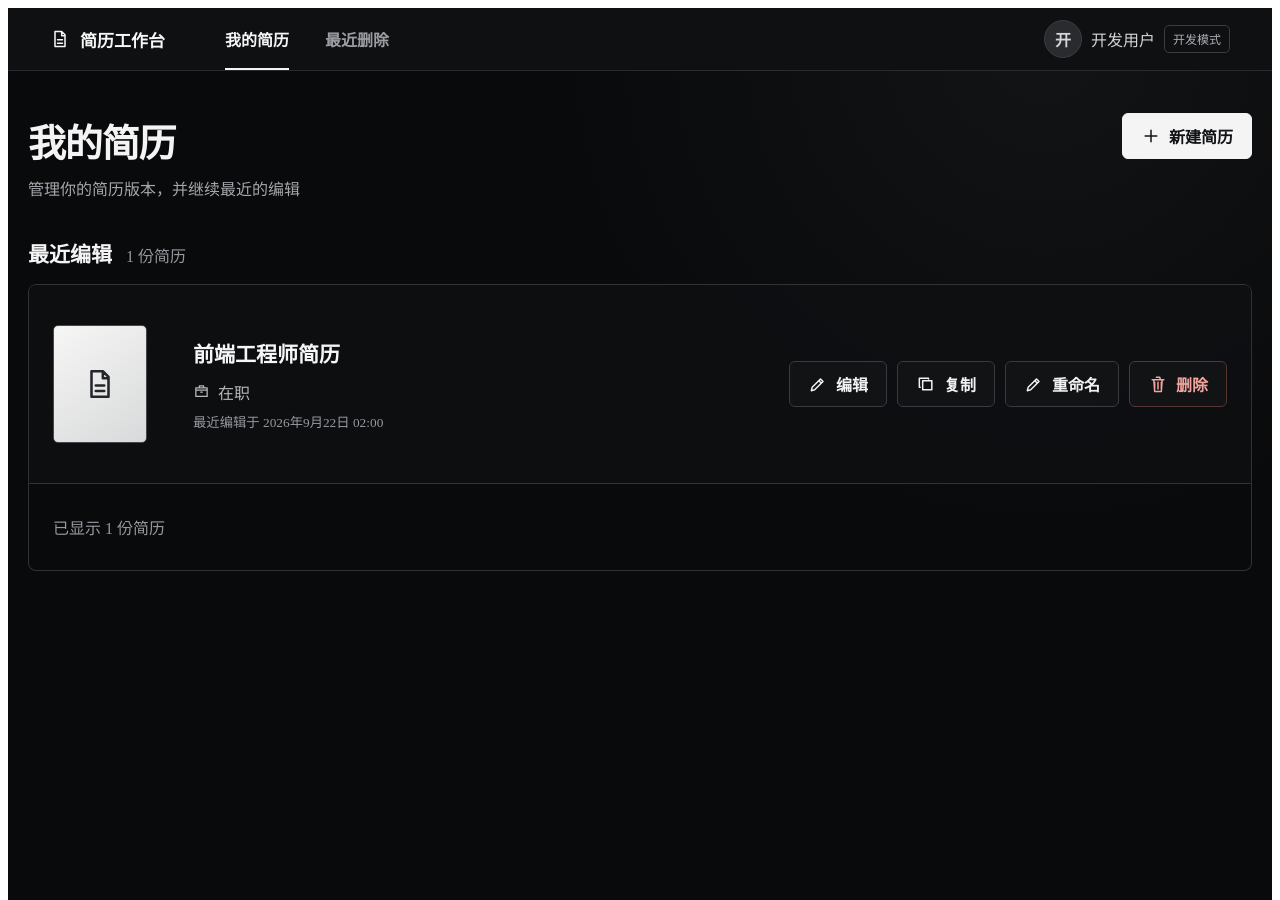
Scenario: resume dashboard › copies, renames and deletes through the existing versioned endpoints
Check: the link "前端工程师简历" is shown, box [193, 342, 340, 366]
Click the button "复制".
click(946, 384)  # box [897, 361, 995, 407]
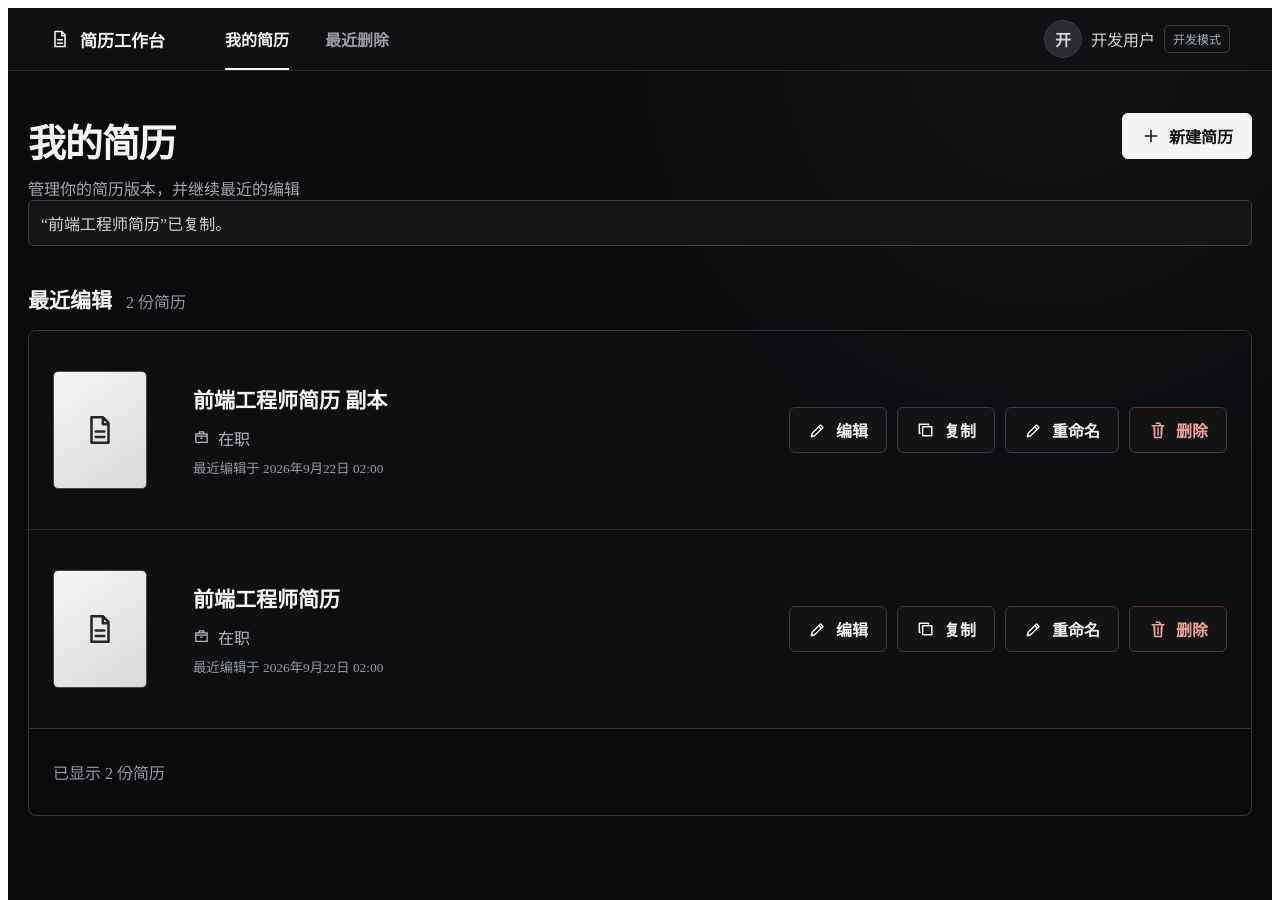
Check: the link "前端工程师简历 副本" is shown, box [193, 388, 387, 412]
Check: the message shows "已复制", box [41, 216, 231, 233]
Click the 2nd button "重命名".
click(1062, 629)  # box [1005, 606, 1119, 652]
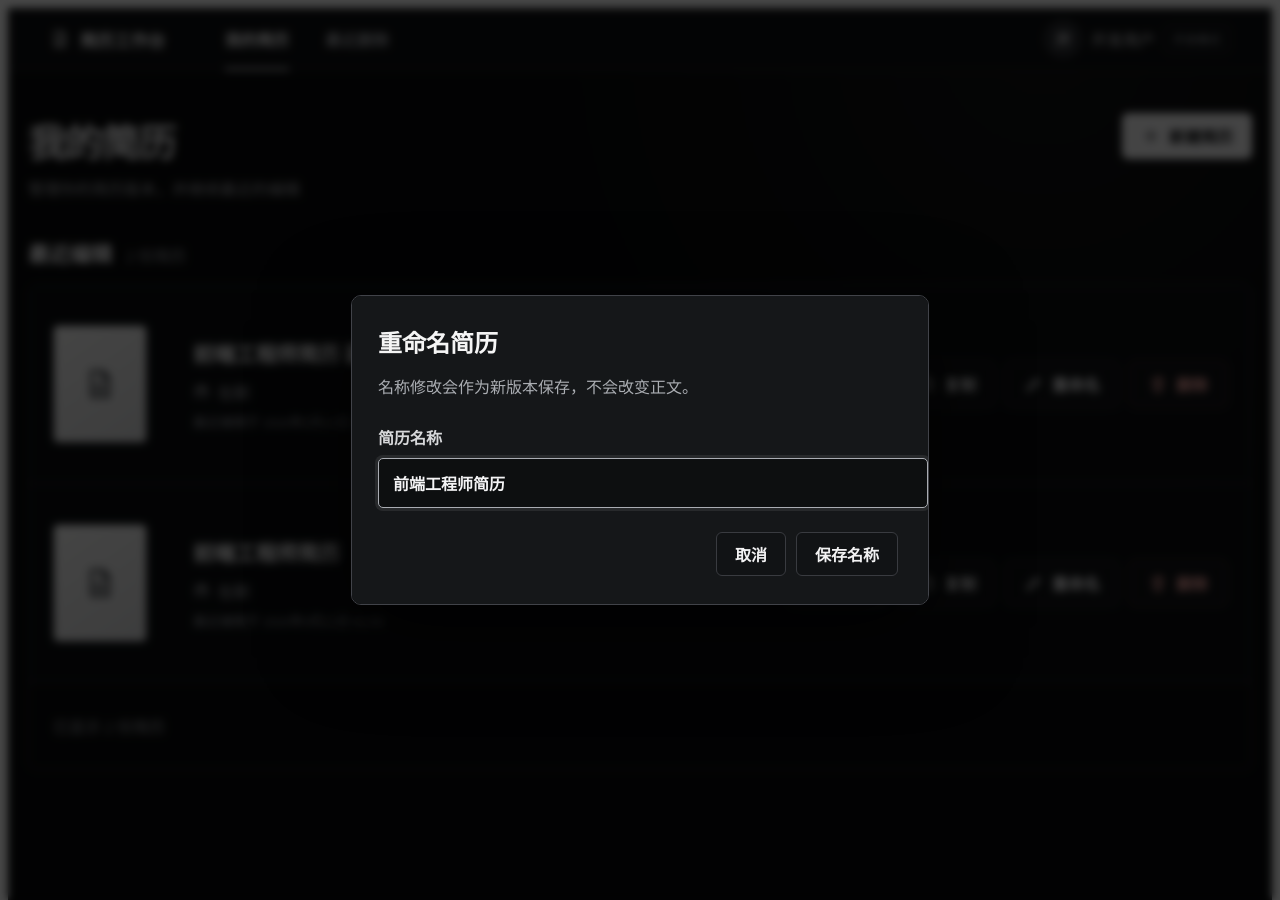
Replace the text in the field labelled "简历名称" with "高级前端工程师" at (653, 483), box [378, 458, 928, 508]
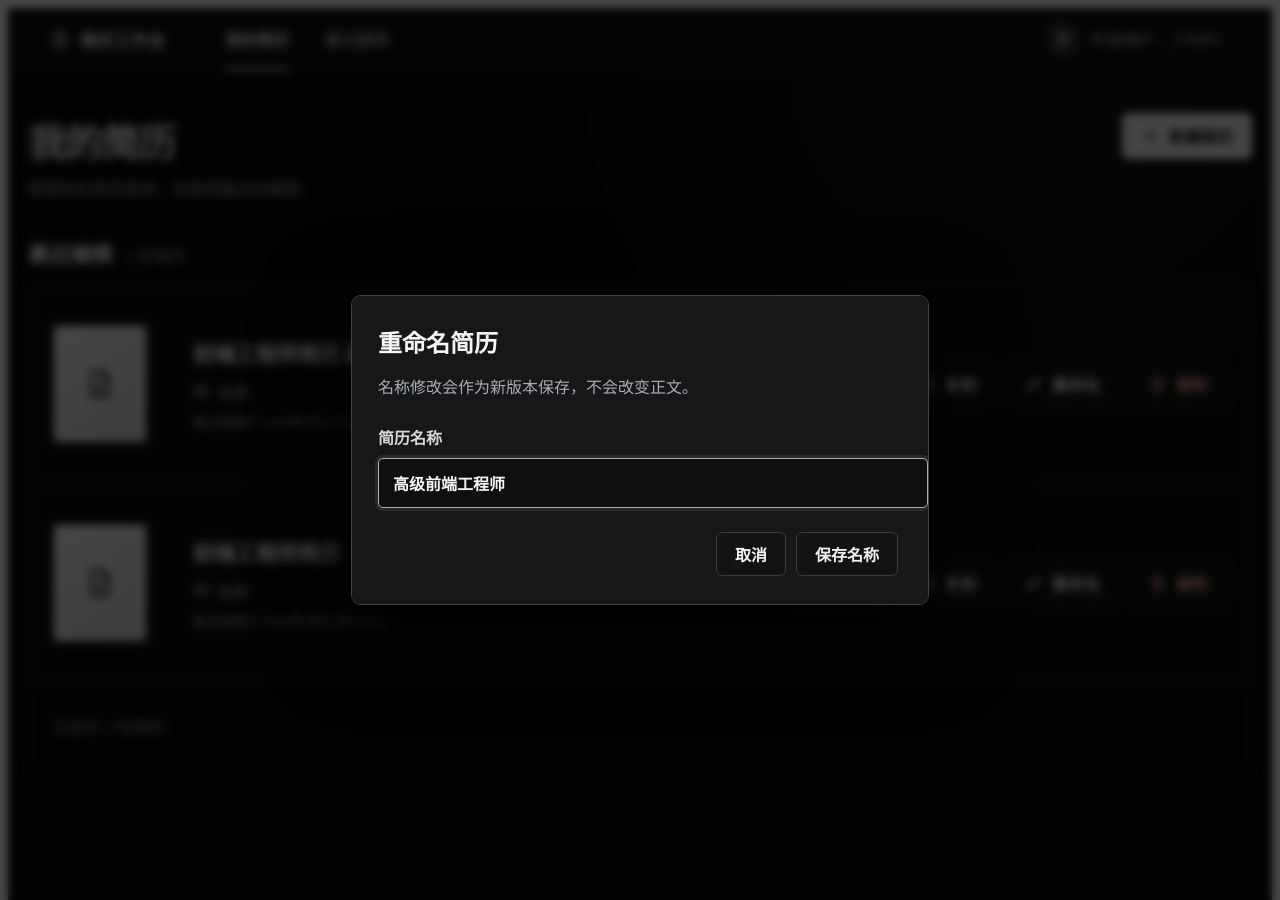
Click the button "保存名称".
click(847, 554)  # box [796, 532, 898, 576]
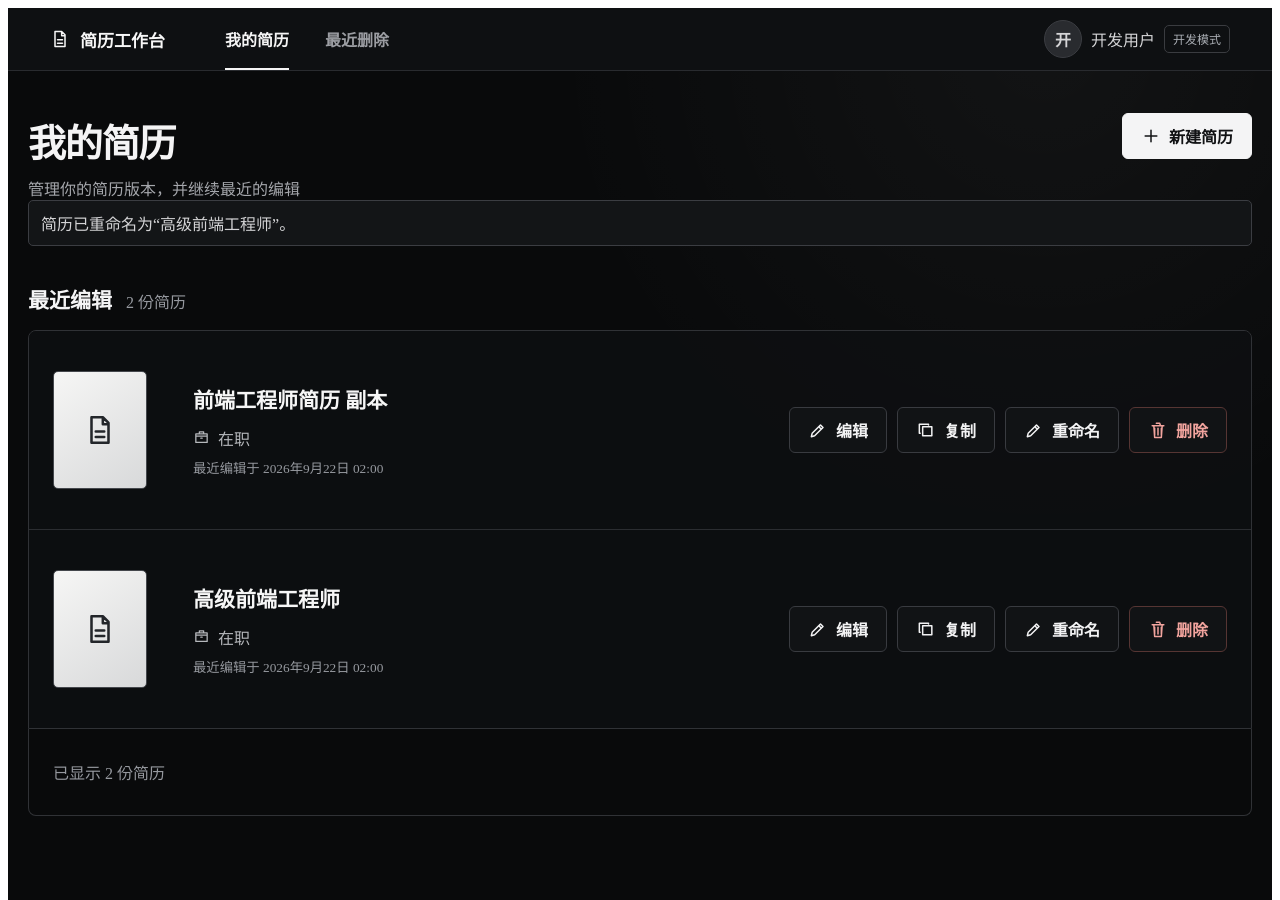
Check: the link "高级前端工程师" is shown, box [193, 588, 340, 612]
Check: the message shows "已重命名", box [41, 216, 295, 233]
Click the 2nd button "删除".
click(1178, 629)  # box [1129, 606, 1227, 652]
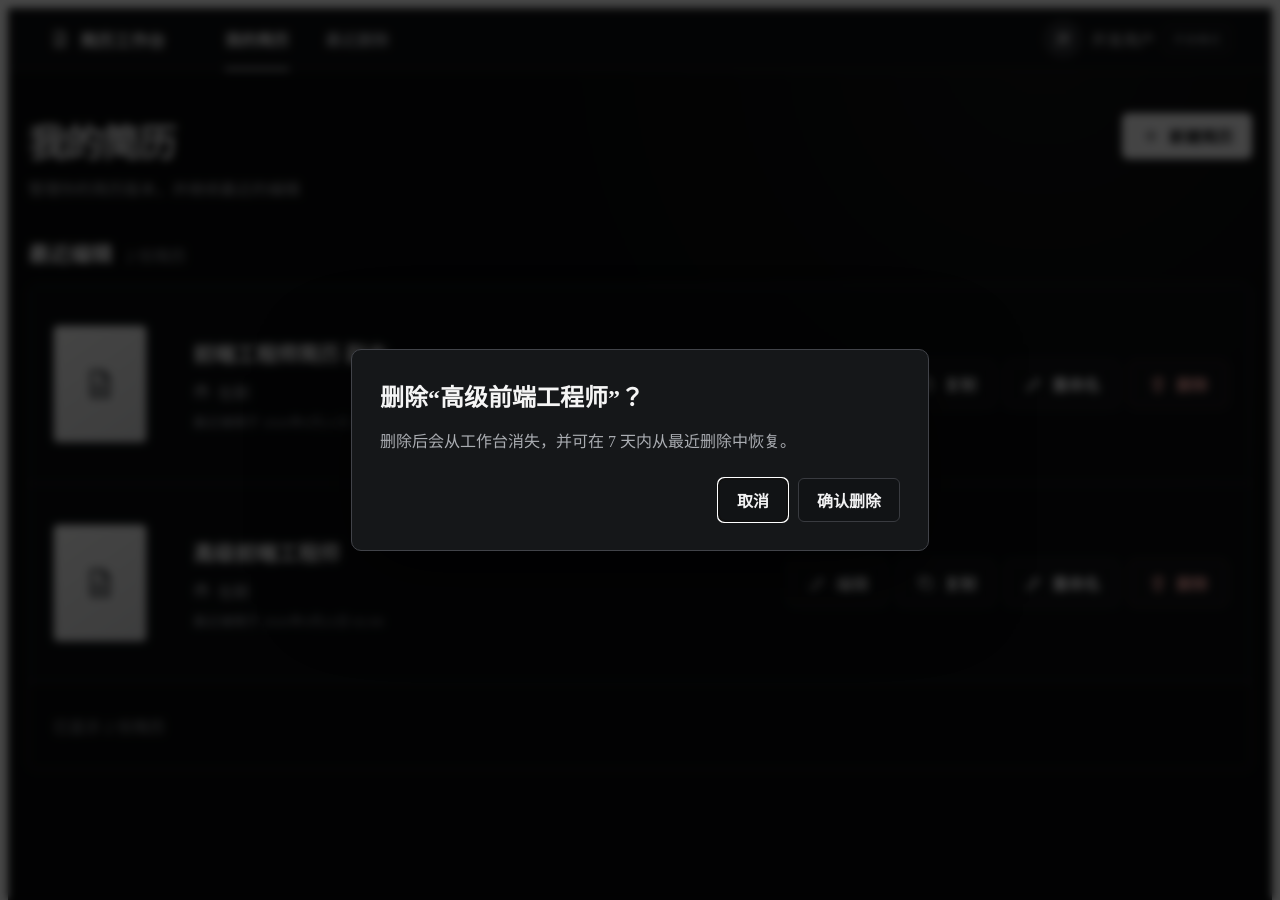
Check: the text "删除后会从工作台消失，并可在 7 天内从最近删除中恢复。" is shown, box [380, 433, 796, 450]
Click the button "确认删除".
click(849, 500)  # box [798, 478, 900, 522]
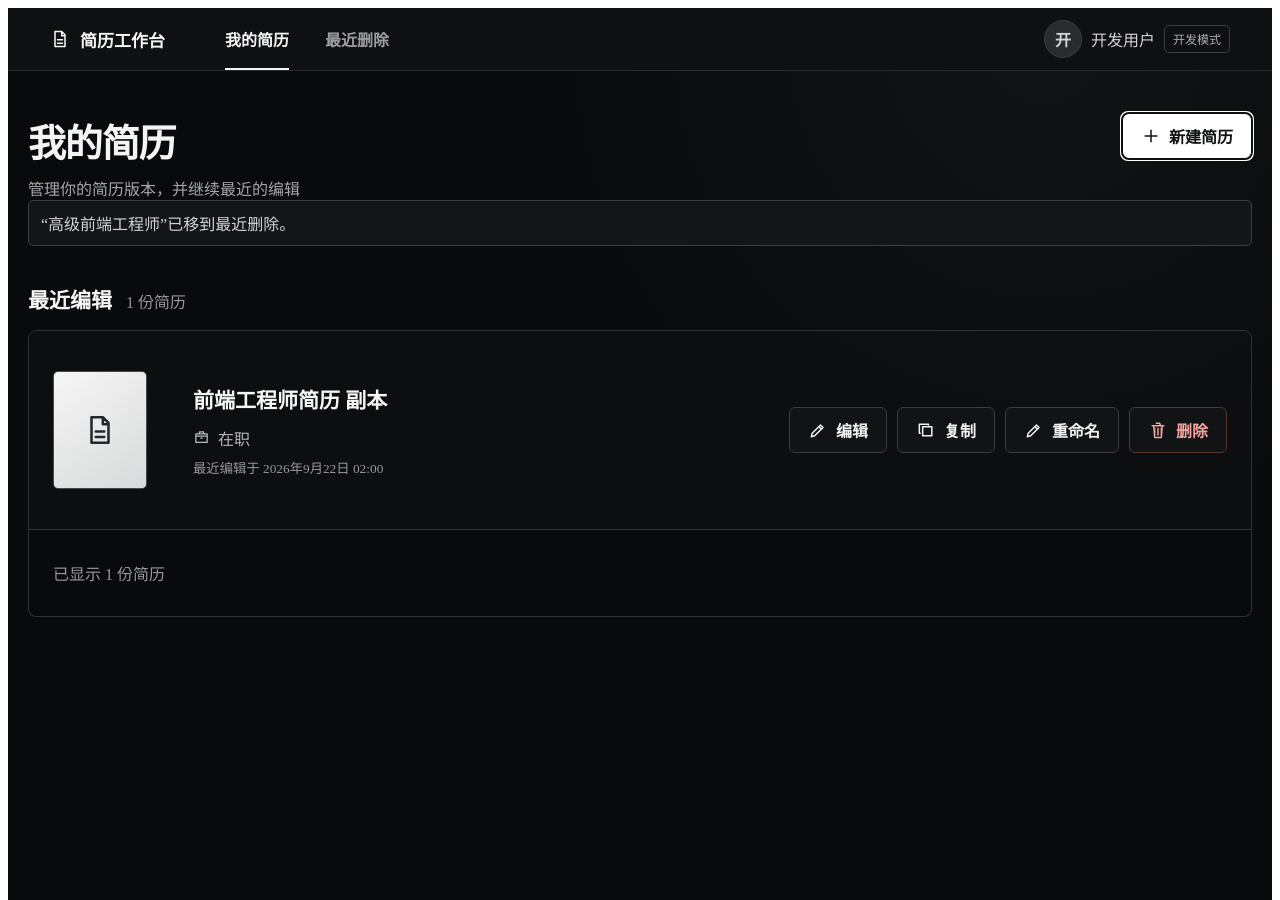
Check: the message shows "已移到最近删除", box [41, 216, 295, 233]
